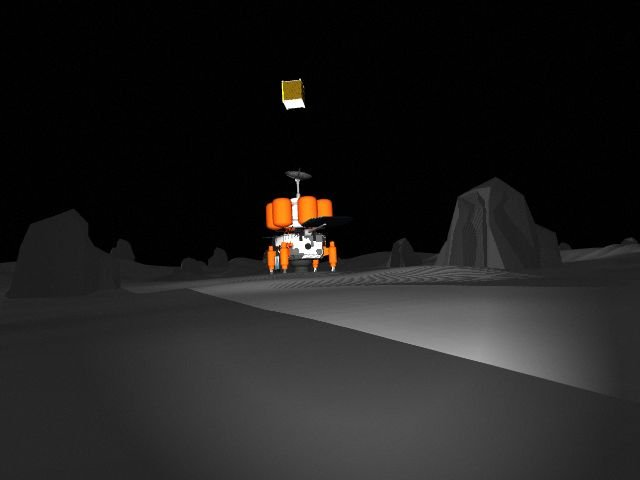cubesat: (274, 73, 320, 117)
